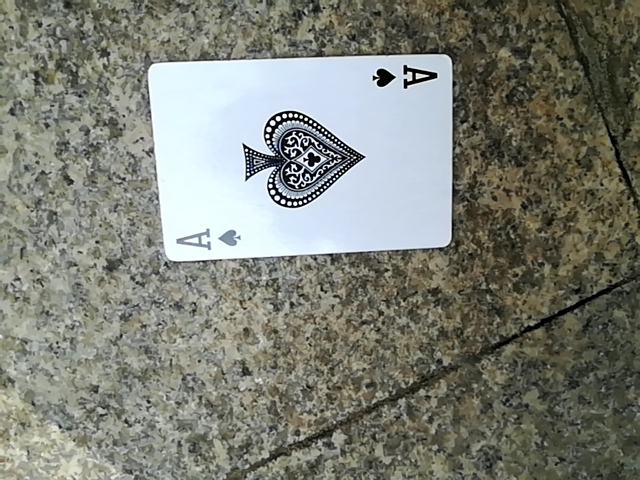ht a: (151, 55, 453, 270)
